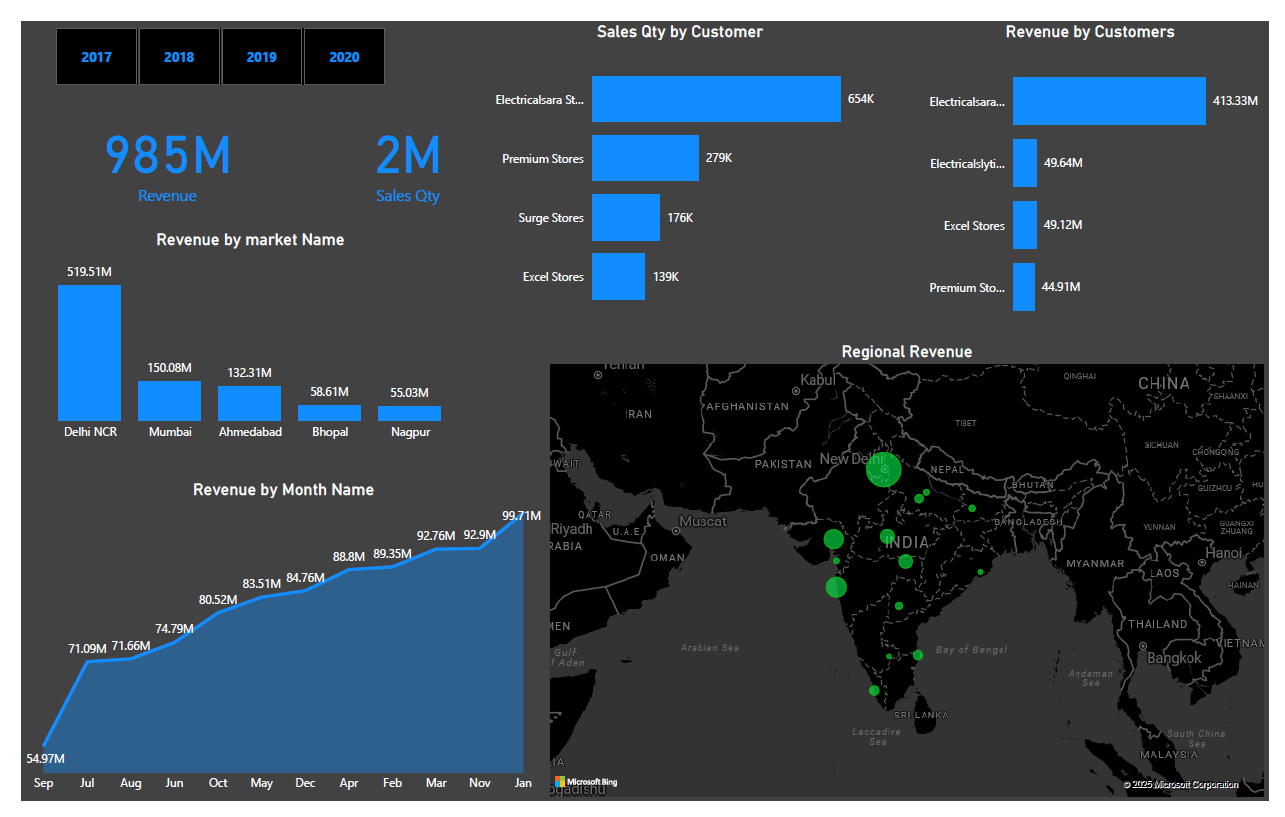

Layout of this report page (visuals, bound fields, positions):
{"tool":"powerbi","page":{"name":"Page 1","canvas":[1280,800],"ordinal":0},"visuals":[{"type":"card","fields":{"Values":["Base Measures.Revenue"]},"box":[10,0,280,280],"z":0},{"type":"card","fields":{"Values":["Base Measures.Sales Qty"]},"box":[256.6,0,279.9,279.9],"z":1000},{"type":"barChart","title":"Revenue by Customers","fields":{"Category":["sales customers.custmer_name"],"Y":["Base Measures.Revenue"]},"box":[913.6,0,366.3,330.3],"z":2000},{"type":"barChart","title":"Sales Qty by Customer","fields":{"Category":["sales customers.custmer_name"],"Y":["Base Measures.Sales Qty"]},"box":[469.9,0,411.9,316.5],"z":3000},{"type":"slicer","fields":{"Values":["sales date.year"]},"box":[9.7,0,387,71.9],"z":4000},{"type":"columnChart","title":"Revenue by market Name","fields":{"Y":["Base Measures.Revenue"],"Category":["sales markets.markets_name"]},"box":[0,214.2,469.9,225.3],"z":5000},{"type":"areaChart","title":"Revenue by Month Name","fields":{"Category":["sales date.Month_Name1"],"Y":["Base Measures.Revenue"]},"box":[0,469.9,537.7,330.3],"z":6000},{"type":"map","title":"Regional Revenue","fields":{"Category":["sales markets.markets_name"],"Size":["Base Measures.Revenue"]},"box":[537.7,327.6,742.2,472.7],"z":7000}]}

Visuals, with their boxes in screenshot pixels (x1, y1, x2, y2), scaled from the page's 1280x800 canvas onto the 1285x817 screenshot:
card - Base Measures.Revenue: l=10, t=0, r=291, b=286
card - Base Measures.Sales Qty: l=258, t=0, r=539, b=286
"Revenue by Customers" barChart: l=917, t=0, r=1284, b=337
"Sales Qty by Customer" barChart: l=472, t=0, r=885, b=323
slicer - sales date.year: l=10, t=0, r=398, b=73
"Revenue by market Name" columnChart: l=0, t=219, r=472, b=449
"Revenue by Month Name" areaChart: l=0, t=480, r=540, b=816
"Regional Revenue" map: l=540, t=335, r=1284, b=816
